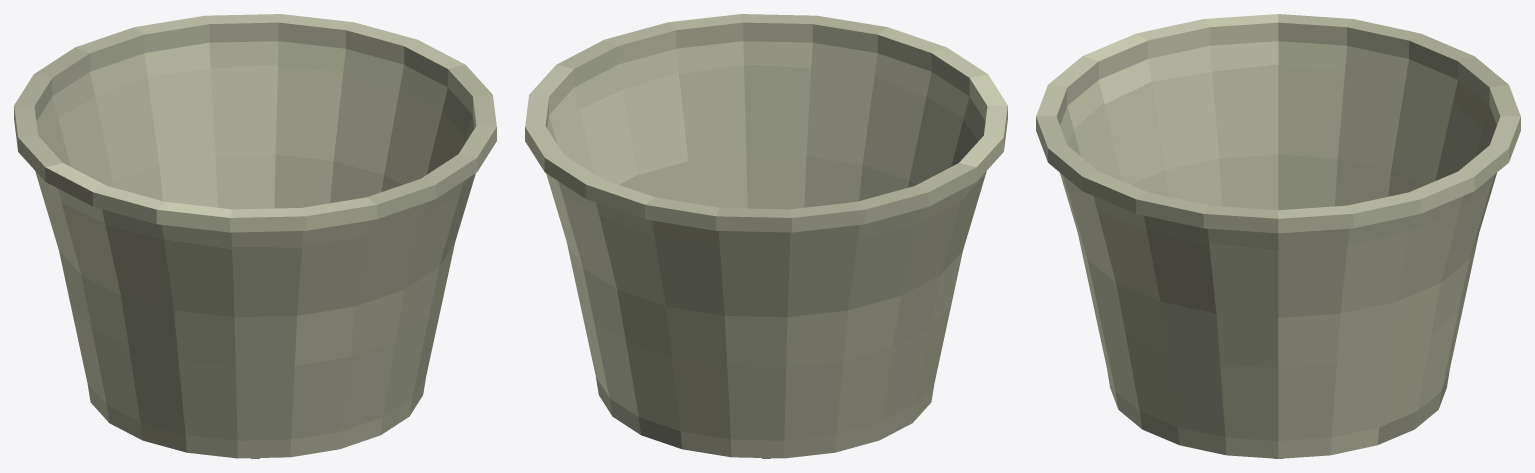
Rendered from vessel-white.glb.
The picture shows the model from 3 angles, left to right: view 1: azimuth 30°, elevation 25°; view 2: azimuth 150°, elevation 25°; view 3: azimuth 270°, elevation 25°; orthographic projection.
Parts seen in each view (by area): view 1: vessel-white/complete-inner-outer-shell-with-drainage; view 2: vessel-white/complete-inner-outer-shell-with-drainage; view 3: vessel-white/complete-inner-outer-shell-with-drainage.
Part boxes in pixels (box(x1,y1,x2,y2)): vessel-white/complete-inner-outer-shell-with-drainage: box(14, 14, 496, 458); vessel-white/complete-inner-outer-shell-with-drainage: box(525, 14, 1007, 458); vessel-white/complete-inner-outer-shell-with-drainage: box(1036, 14, 1520, 458).
Bounding box in the file's own units: 0.332 × 0.218 × 0.332.
1 material, 1 textured.
